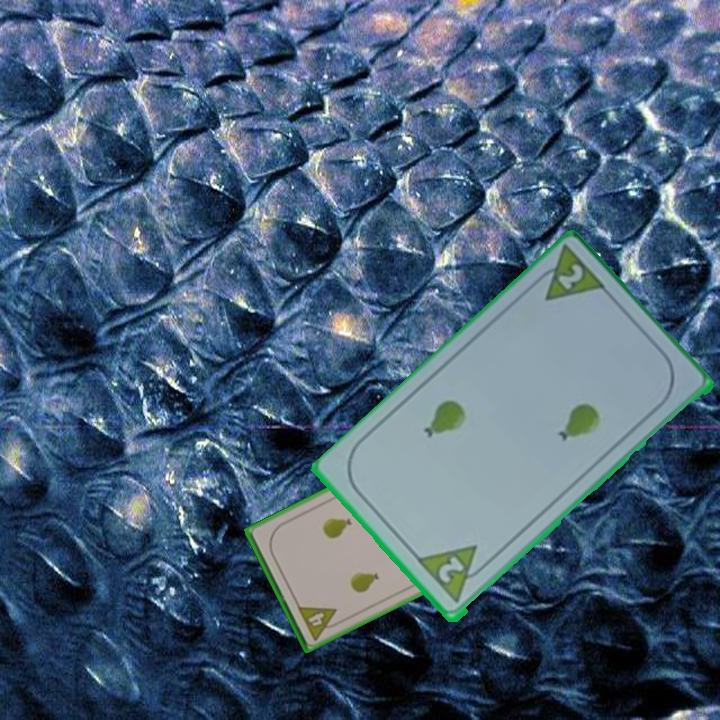2p: (415, 542, 494, 608), (553, 260, 587, 294)
4p: (294, 602, 344, 643)
